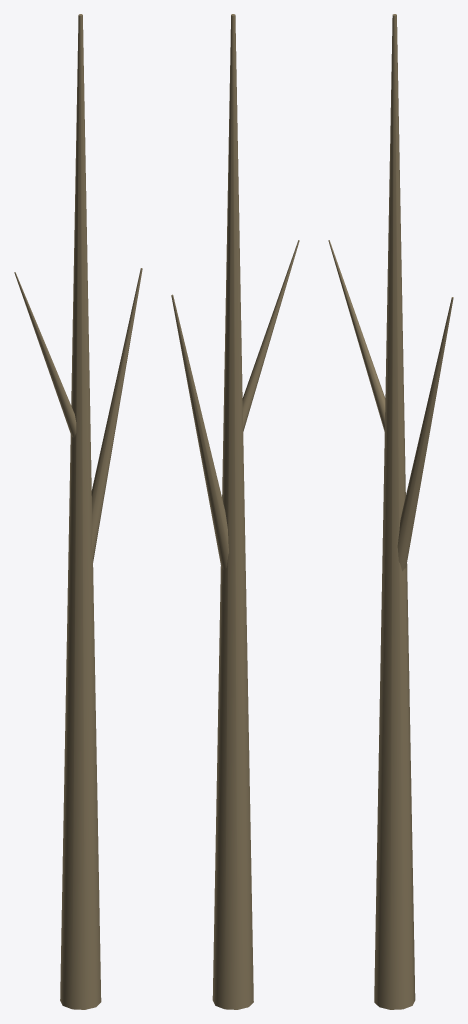
Rendered from Tronco_alto_02.fbx.
3 renders of one model, left to right at view 1: azimuth 30°, elevation 25°; view 2: azimuth 210°, elevation 25°; view 3: azimuth 330°, elevation 25°, orthographic.
Parts seen in each view (by area): view 1: Tronco_alto_02; view 2: Tronco_alto_02; view 3: Tronco_alto_02.
Part boxes in pixels (x1,y1,x2,y2): Tronco_alto_02: (14, 14, 142, 1009); Tronco_alto_02: (171, 14, 299, 1009); Tronco_alto_02: (328, 14, 453, 1009).
Size of the model in its own units: 5.12 by 38.09 by 1.38.
